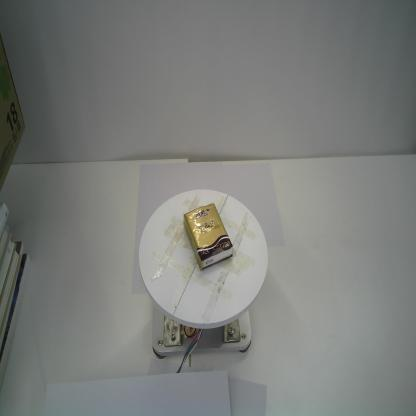Tissue: (182, 200, 233, 271)
